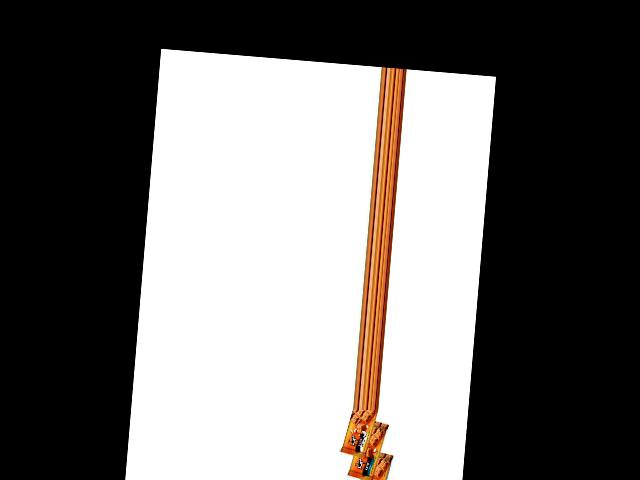chocolate: (354, 446, 391, 480)
